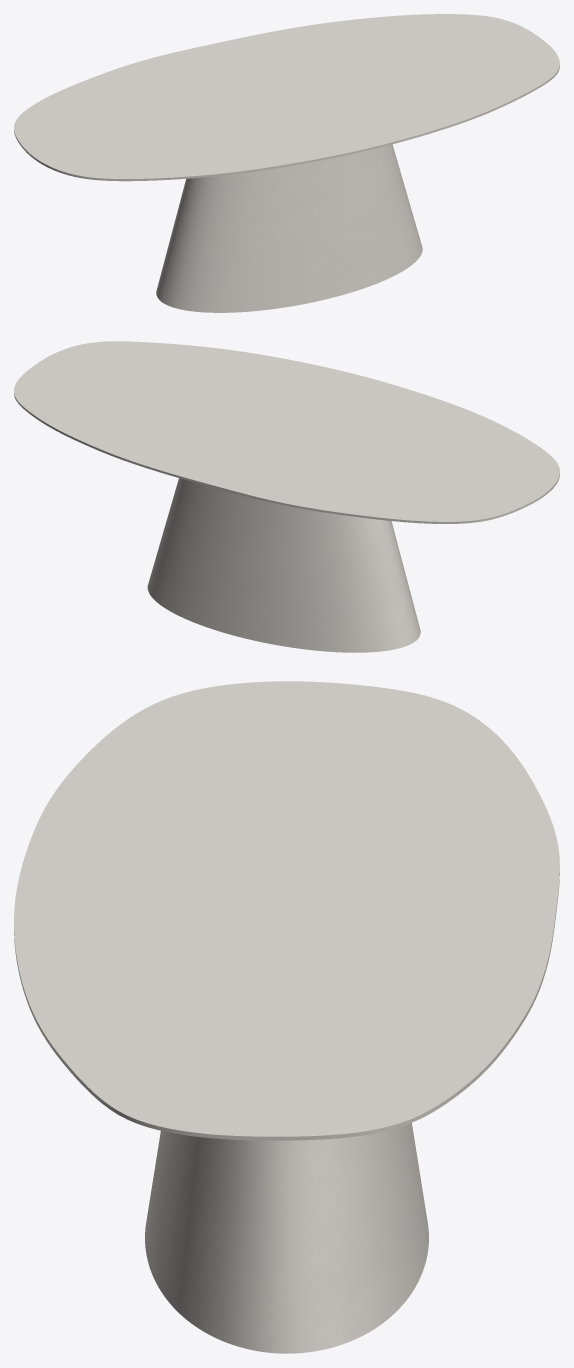
Rendered from pearlwhite_danish_facet_eqone.glb.
3 views of the same model, one above another, from view 1: azimuth 30°, elevation 25°; view 2: azimuth 150°, elevation 25°; view 3: azimuth 270°, elevation 25° (orthographic). The views are drawn at different scales.
Parts seen in each view (by area): view 1: facet_danish, eqone; view 2: facet_danish, eqone; view 3: facet_danish, eqone.
Part boxes in pixels (<box>): facet_danish: <box>14,14,559,181</box>; eqone: <box>156,144,422,312</box>; facet_danish: <box>14,341,559,523</box>; eqone: <box>147,478,420,652</box>; facet_danish: <box>14,681,559,1140</box>; eqone: <box>145,1123,428,1353</box>.
Bounding box in the file's own units: 7.5 × 2.5 × 3.8.
1 material, 1 textured.
